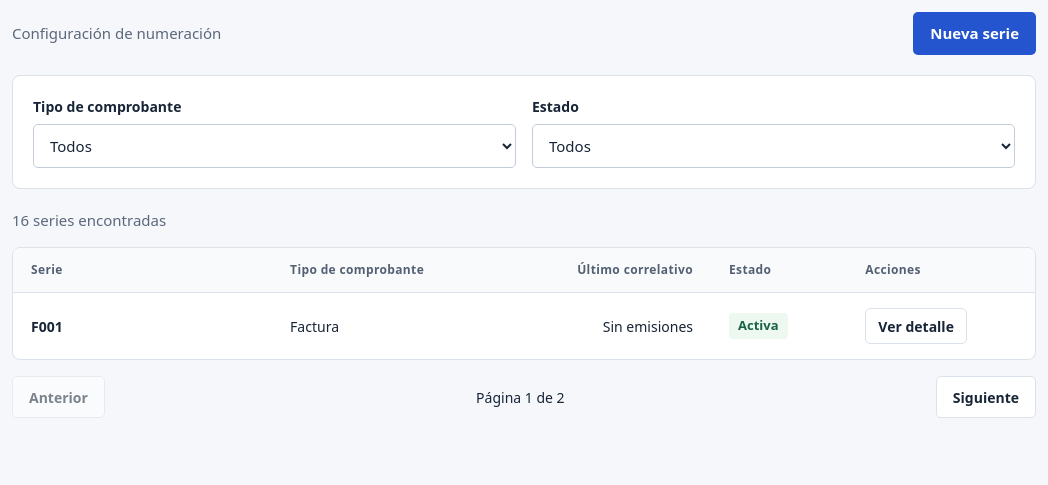
Test: pagina y muestra estado vacio despues de filtrar
The image size is (1048, 485).
Click the button "Siguiente": point(986, 397) [936, 376, 1036, 418]
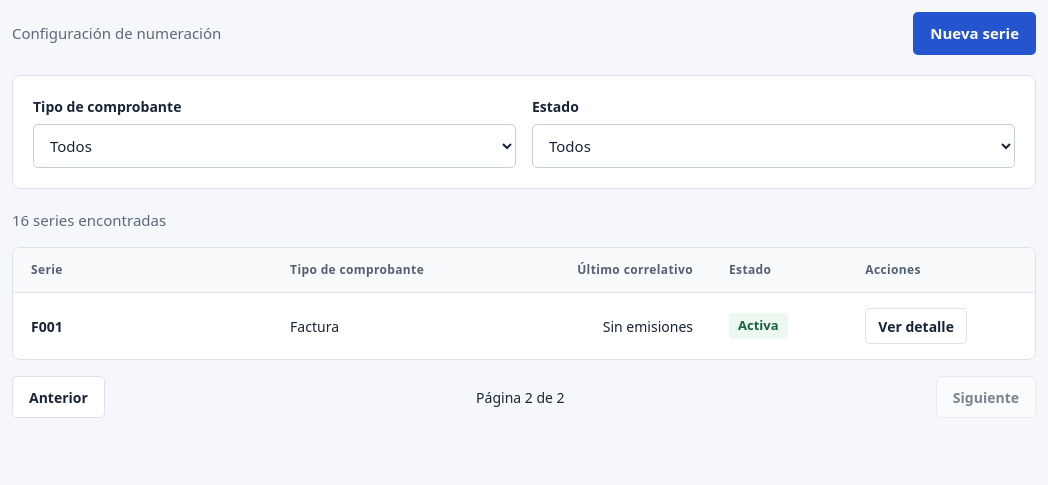
Select "Inactivas" in the dropdown labelled "Estado": point(774, 146) [532, 124, 1015, 168]
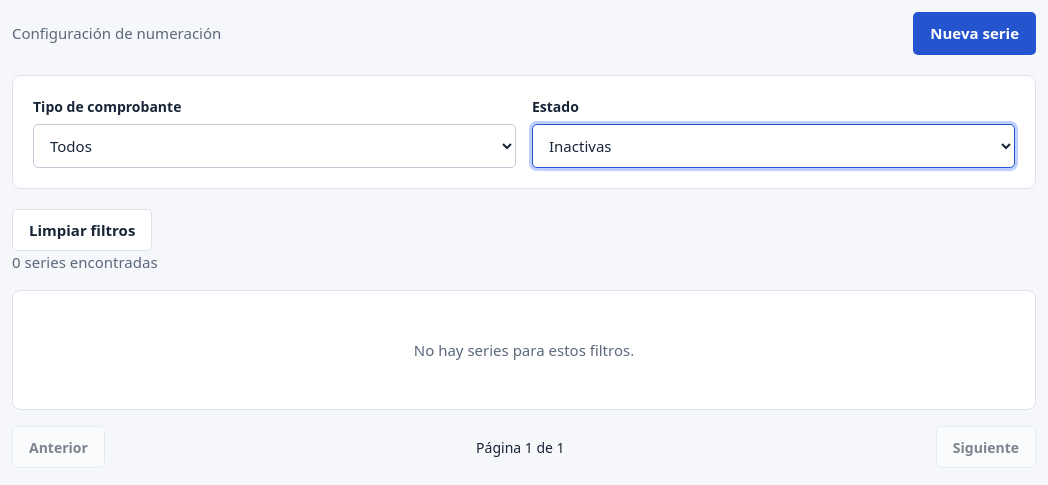
Result: the text "No hay series para estos filtros." is shown at [12, 290, 1036, 410]
